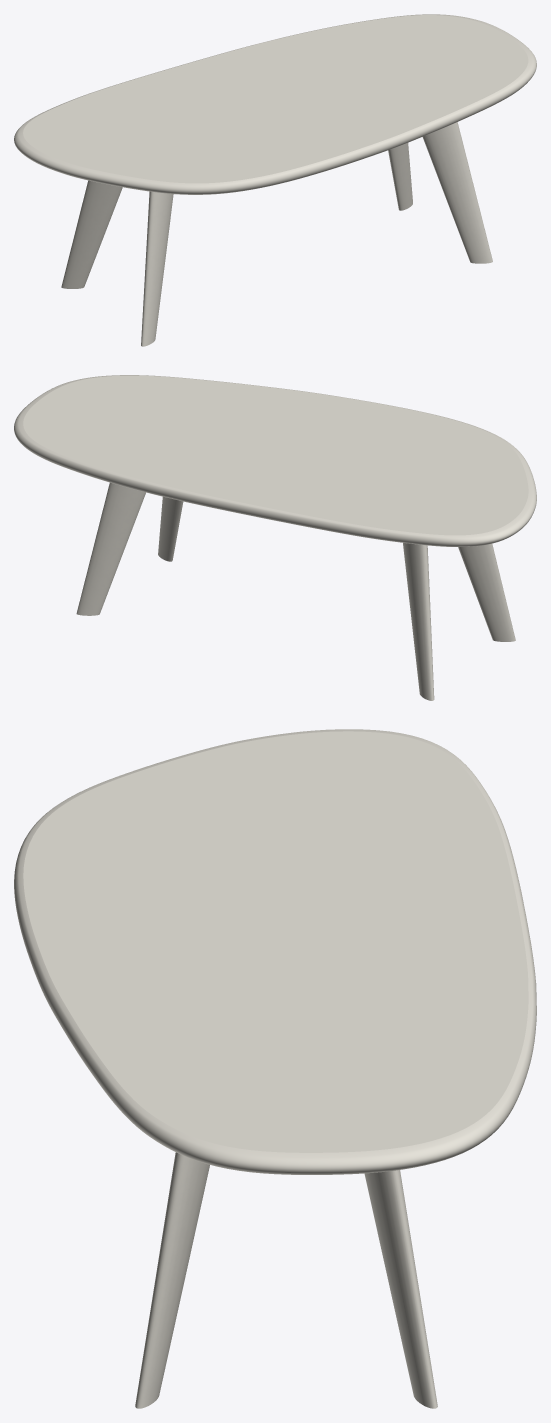
File: pale_leaf2_round_ferdinantwalnut.glb
The picture shows the model from 3 angles, top to bottom: view 1: azimuth 30°, elevation 25°; view 2: azimuth 150°, elevation 25°; view 3: azimuth 270°, elevation 25°; orthographic projection. The views are drawn at different scales.
Parts seen in each view (by area): view 1: round_leaf2, ferdinandwalnut; view 2: round_leaf2, ferdinandwalnut; view 3: round_leaf2, ferdinandwalnut.
Part boxes in pixels (x1=…): round_leaf2: x1=14, y1=14, x2=536, y2=194; ferdinandwalnut: x1=61, y1=122, x2=492, y2=346; round_leaf2: x1=14, y1=375, x2=536, y2=547; ferdinandwalnut: x1=76, y1=482, x2=515, y2=700; round_leaf2: x1=14, y1=729, x2=536, y2=1174; ferdinandwalnut: x1=135, y1=1152, x2=437, y2=1408.
Size of the model in its own units: 7.5 by 2.53 by 3.8.
1 material, 1 textured.
